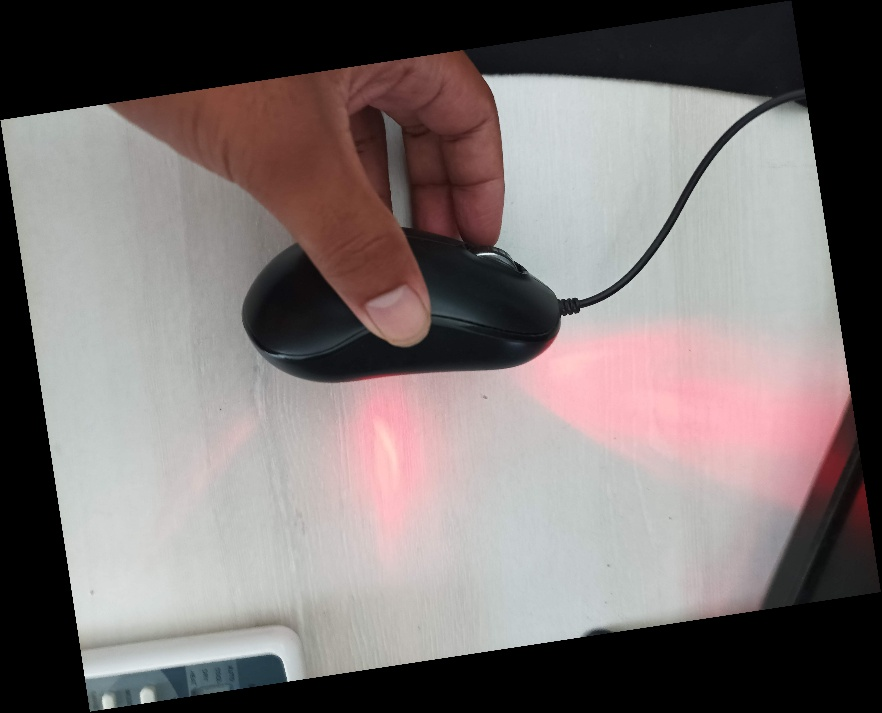mouse: (237, 208, 566, 391)
